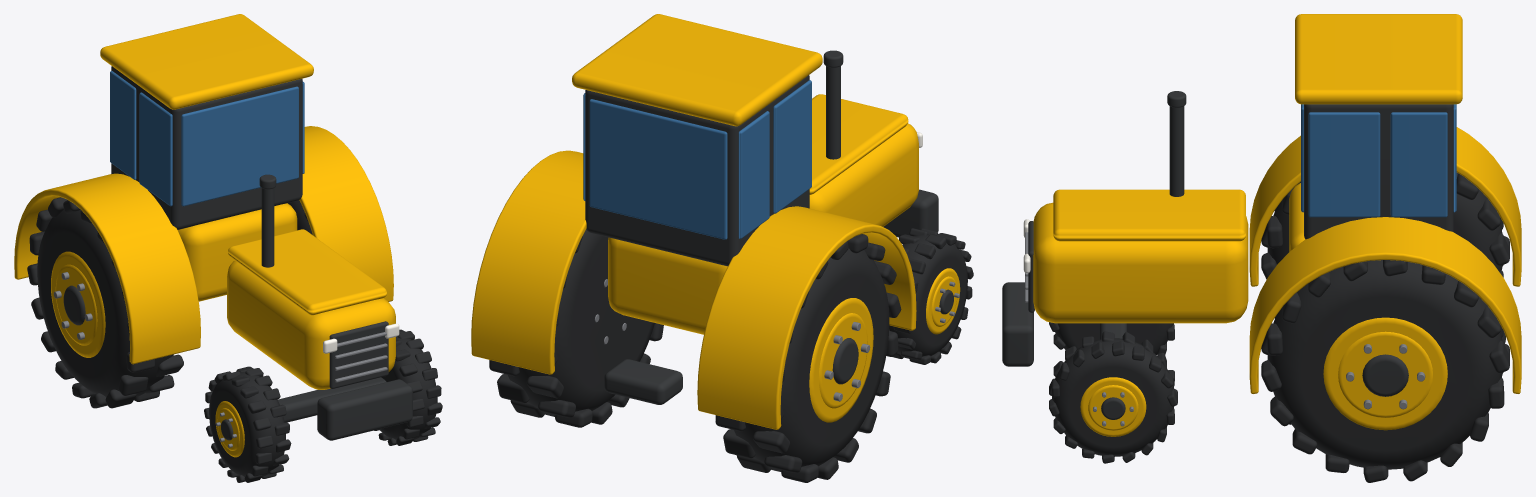
The model's file is Tractor.glb.
3 renders of one model, left to right at view 1: azimuth 30°, elevation 25°; view 2: azimuth 150°, elevation 25°; view 3: azimuth 270°, elevation 25°, orthographic. The views are drawn at different scales.
Parts seen in each view (by area): view 1: Tractor_Tractor_Root_Yellow, Tractor_Tractor_Root_Glass, Tractor_Tractor_Root_DarkGrey, Tractor_Wheel_RearWheelR_Rubber, Tractor_Wheel_FrontWheelR_Rubber, Tractor_Wheel_FrontWheelL_Rubber, Tractor_Wheel_RearWheelR_Yellow, Tractor_Wheel_FrontWheelR_Yellow, Tractor_Tractor_Root_SteelGrey, Trac_RearWheelR_Hub; view 2: Tractor_Tractor_Root_Yellow, Tractor_Tractor_Root_Glass, Tractor_Wheel_RearWheelR_Rubber, Tractor_Tractor_Root_DarkGrey, Tractor_Wheel_RearWheelL_Rubber, Tractor_Wheel_FrontWheelR_Rubber, Tractor_Wheel_RearWheelR_Yellow, Tractor_Wheel_FrontWheelR_Yellow, Trac_RearWheelR_Hub; view 3: Tractor_Tractor_Root_Yellow, Tractor_Wheel_RearWheelL_Rubber, Tractor_Tractor_Root_Glass, Tractor_Wheel_FrontWheelL_Rubber, Tractor_Tractor_Root_DarkGrey, Tractor_Wheel_RearWheelL_Yellow, Tractor_Wheel_RearWheelR_Rubber, Tractor_Wheel_FrontWheelL_Yellow, Tractor_Wheel_FrontWheelR_Rubber, Trac_RearWheelL_Hub.
Boxes of the visible parts, bbox=[...] form: Tractor_Tractor_Root_Yellow: bbox=[14, 14, 395, 389]; Tractor_Tractor_Root_Glass: bbox=[110, 71, 304, 206]; Tractor_Tractor_Root_DarkGrey: bbox=[111, 66, 412, 440]; Tractor_Wheel_RearWheelR_Rubber: bbox=[27, 197, 183, 408]; Tractor_Wheel_FrontWheelR_Rubber: bbox=[204, 366, 291, 482]; Tractor_Wheel_FrontWheelL_Rubber: bbox=[374, 329, 442, 445]; Tractor_Wheel_RearWheelR_Yellow: bbox=[51, 251, 105, 357]; Tractor_Wheel_FrontWheelR_Yellow: bbox=[215, 401, 244, 457]; Tractor_Tractor_Root_SteelGrey: bbox=[334, 332, 387, 382]; Trac_RearWheelR_Hub: bbox=[63, 285, 85, 325]; Tractor_Tractor_Root_Yellow: bbox=[471, 14, 918, 429]; Tractor_Tractor_Root_Glass: bbox=[583, 80, 811, 239]; Tractor_Wheel_RearWheelR_Rubber: bbox=[715, 234, 901, 482]; Tractor_Tractor_Root_DarkGrey: bbox=[585, 50, 938, 404]; Tractor_Wheel_RearWheelL_Rubber: bbox=[489, 229, 663, 427]; Tractor_Wheel_FrontWheelR_Rubber: bbox=[889, 228, 973, 364]; Tractor_Wheel_RearWheelR_Yellow: bbox=[809, 298, 873, 422]; Tractor_Wheel_FrontWheelR_Yellow: bbox=[926, 268, 960, 334]; Trac_RearWheelR_Hub: bbox=[832, 338, 858, 384]; Tractor_Tractor_Root_Yellow: bbox=[1033, 14, 1521, 393]; Tractor_Wheel_RearWheelL_Rubber: bbox=[1261, 260, 1509, 482]; Tractor_Tractor_Root_Glass: bbox=[1301, 104, 1456, 217]; Tractor_Wheel_FrontWheelL_Rubber: bbox=[1049, 331, 1177, 463]; Tractor_Tractor_Root_DarkGrey: bbox=[1002, 91, 1505, 366]; Tractor_Wheel_RearWheelL_Yellow: bbox=[1323, 317, 1447, 430]; Tractor_Wheel_RearWheelR_Rubber: bbox=[1261, 172, 1509, 279]; Tractor_Wheel_FrontWheelL_Yellow: bbox=[1080, 377, 1146, 436]; Tractor_Wheel_FrontWheelR_Rubber: bbox=[1049, 322, 1174, 359]; Trac_RearWheelL_Hub: bbox=[1362, 354, 1408, 396].
Size of the model in its own units: 1.55 by 1.77 by 2.29.
6 materials, 6 textured.
